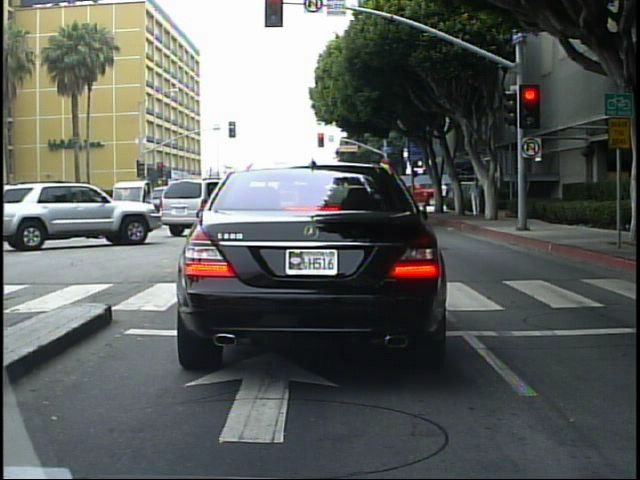person: (632, 166, 638, 274), (469, 179, 483, 218), (437, 179, 451, 212), (636, 167, 638, 274)
